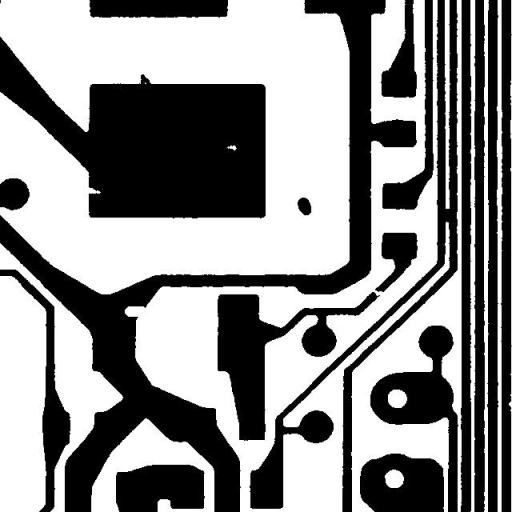copper: (290, 190, 318, 222)
mousebite: (117, 298, 154, 324), (76, 178, 108, 200)
open: (362, 281, 393, 303)
pin-hole: (219, 138, 244, 158)
short: (434, 200, 458, 230)
spur: (133, 66, 158, 94)
